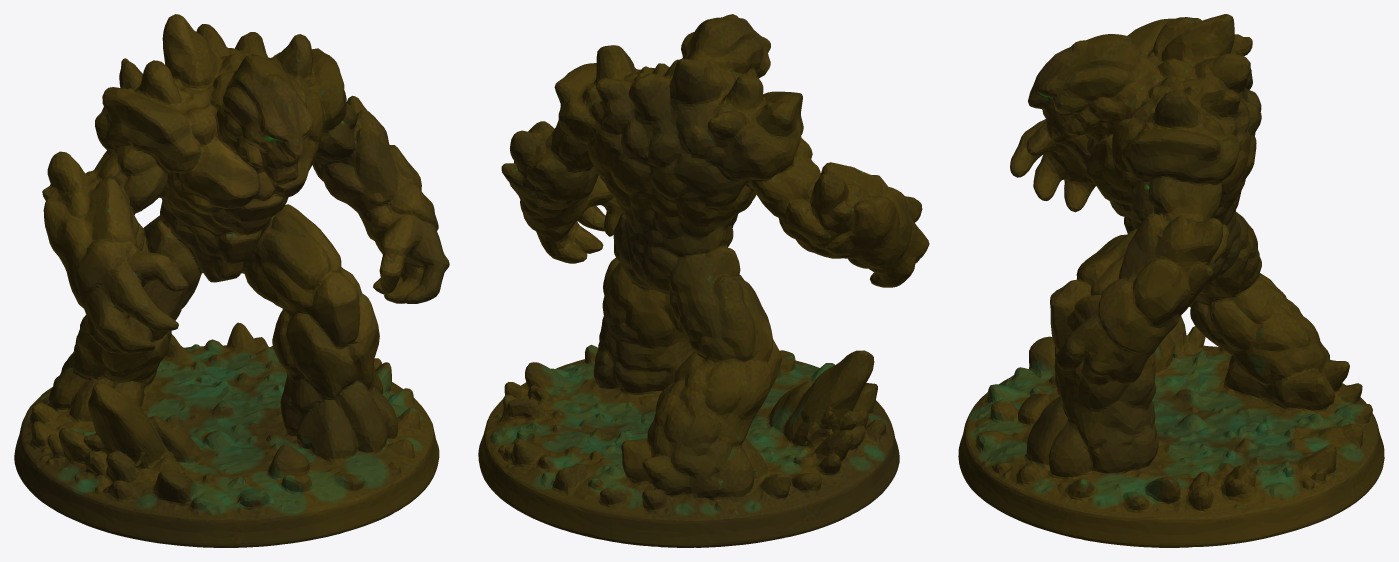
Rendered from elemental_pedra.glb.
3 views of the same model, side by side, from view 1: azimuth 30°, elevation 25°; view 2: azimuth 150°, elevation 25°; view 3: azimuth 270°, elevation 25° (orthographic).
Visible parts, largest first — view 1: tmpaz7ewqtw.ply; view 2: tmpaz7ewqtw.ply; view 3: tmpaz7ewqtw.ply.
Part boxes in pixels (box(x1,y1,x2,y2)): tmpaz7ewqtw.ply: box(14, 14, 449, 547); tmpaz7ewqtw.ply: box(478, 14, 929, 547); tmpaz7ewqtw.ply: box(958, 14, 1384, 547).
Bounding box in the file's own units: 1.77 × 1.96 × 1.74.
1 material, 1 textured.
